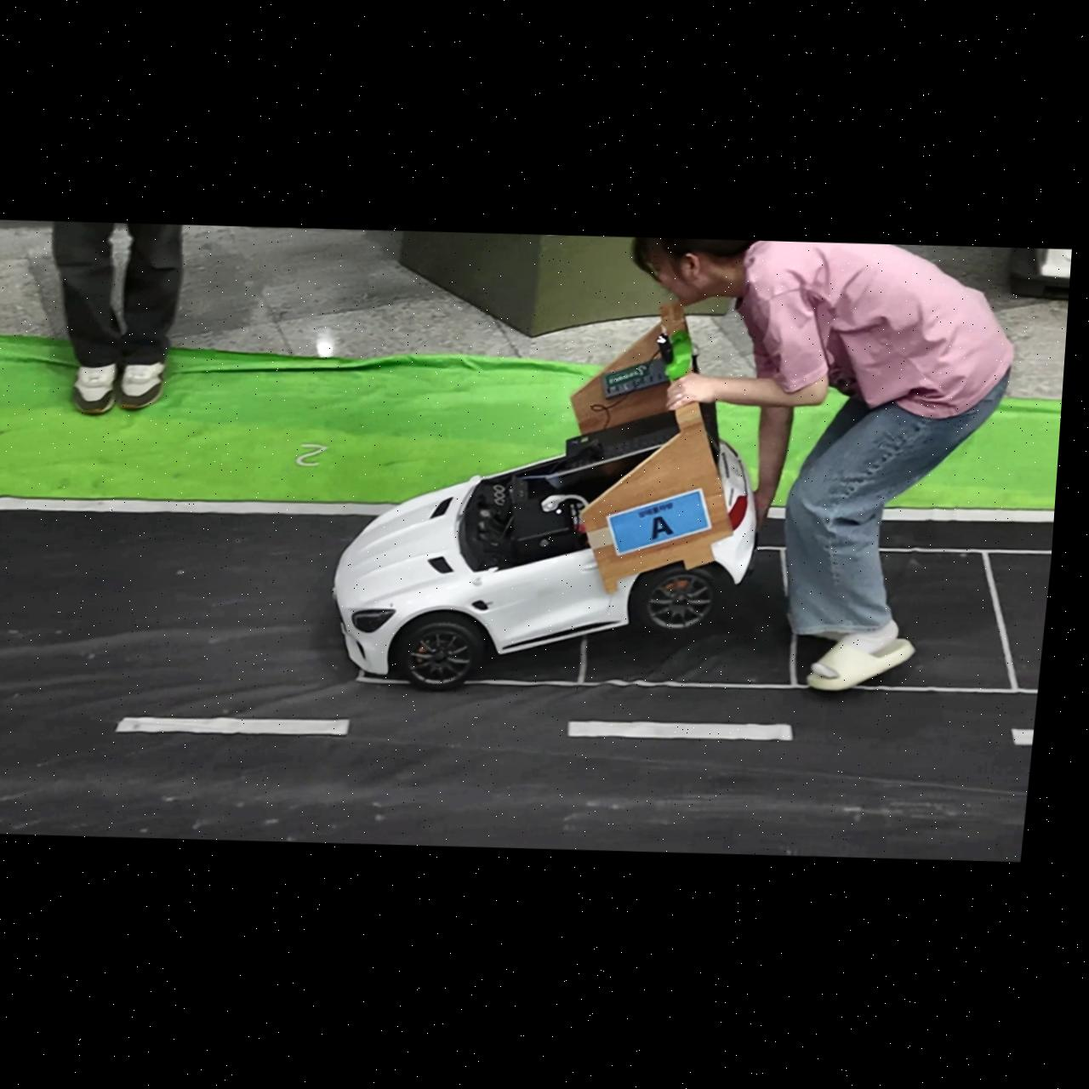broken_line: (115, 716, 349, 735), (568, 721, 792, 740), (1010, 728, 1033, 745)
